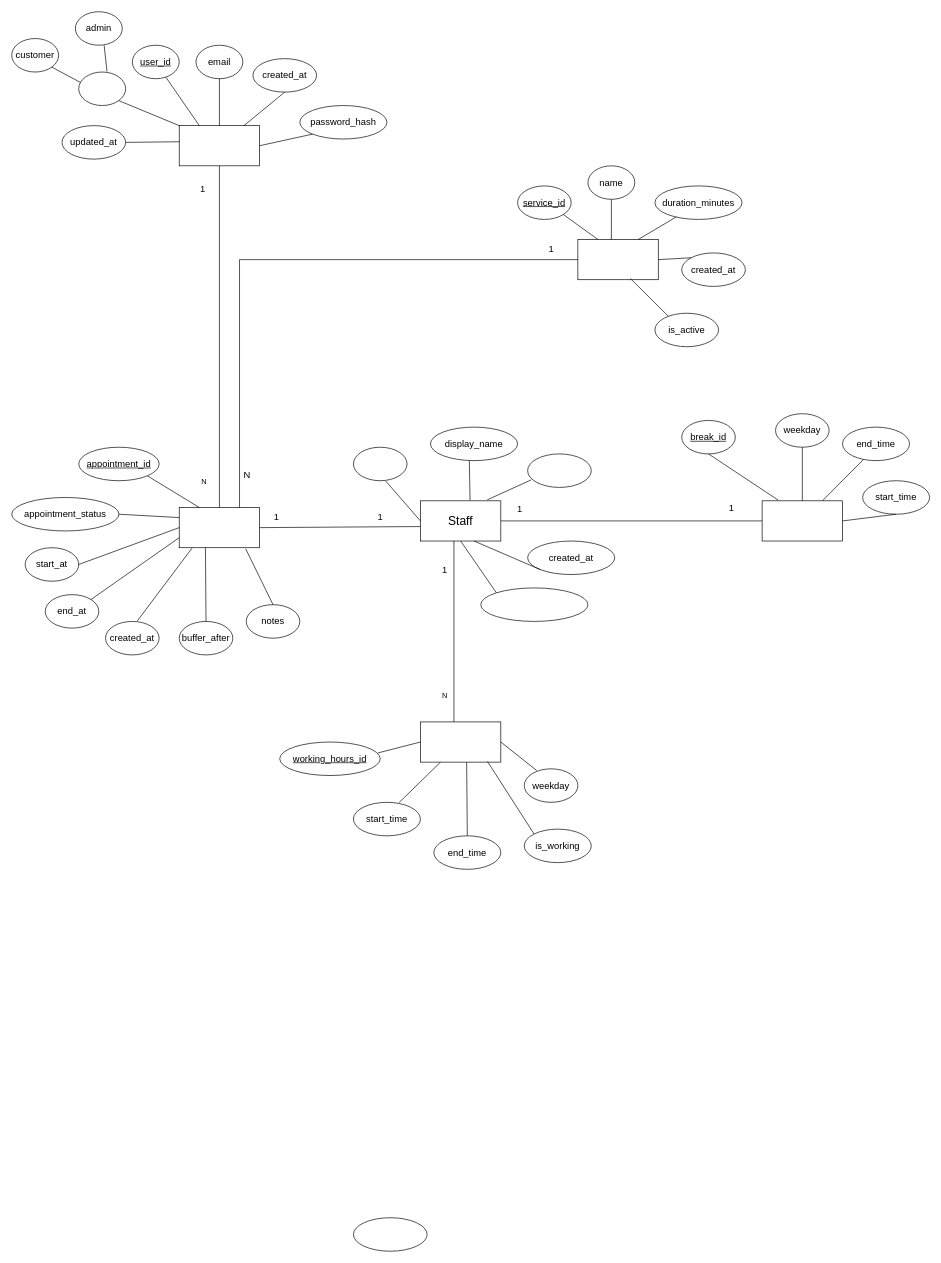
The diagram is 941 pixels wide and 1263 high, and some of its shapes have lost their labels. Each missing label, with the centre of its shape:
"appointment_id" belongs at point 390,1234.
"Appointments" belongs at point 219,527.
"buffer_after_minutes" belongs at point 534,604.
"Services" belongs at point 617,259.
"Staff Breaks" belongs at point 802,520.
"Staff Working Hours" belongs at point 460,741.
"staff_id" belongs at point 380,464.
"timezone" belongs at point 559,470.
"user_role" belongs at point 102,88.
"Users" belongs at point 219,145.
